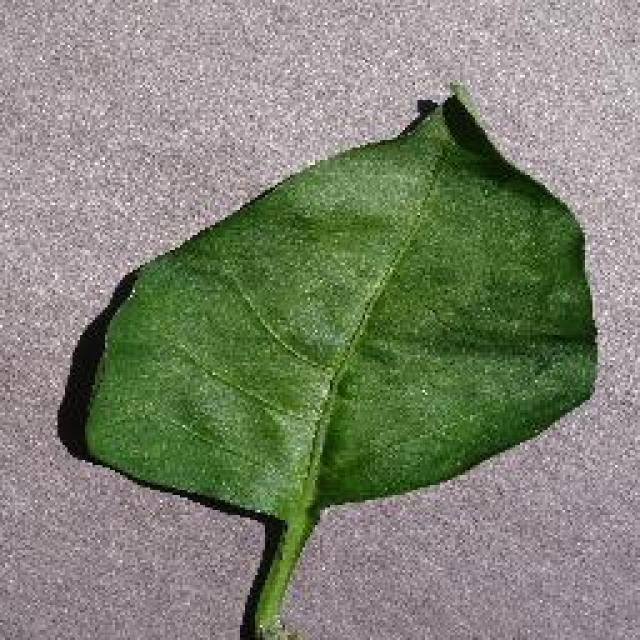Chilli_Healthy: (78, 78, 600, 638)
